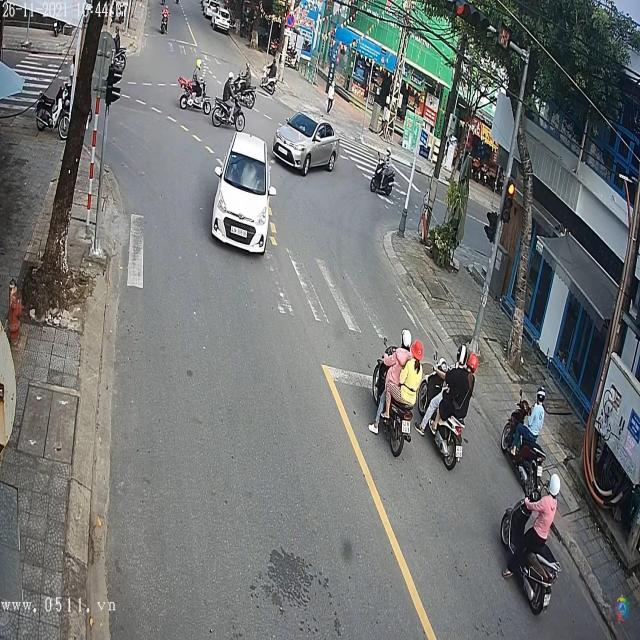car: (210, 133, 272, 253), (271, 112, 343, 177)
motorcycle: (499, 492, 560, 618), (418, 354, 464, 469), (501, 388, 543, 496), (372, 393, 413, 459), (212, 94, 247, 130), (177, 75, 210, 110), (369, 160, 396, 198), (161, 9, 169, 34)
